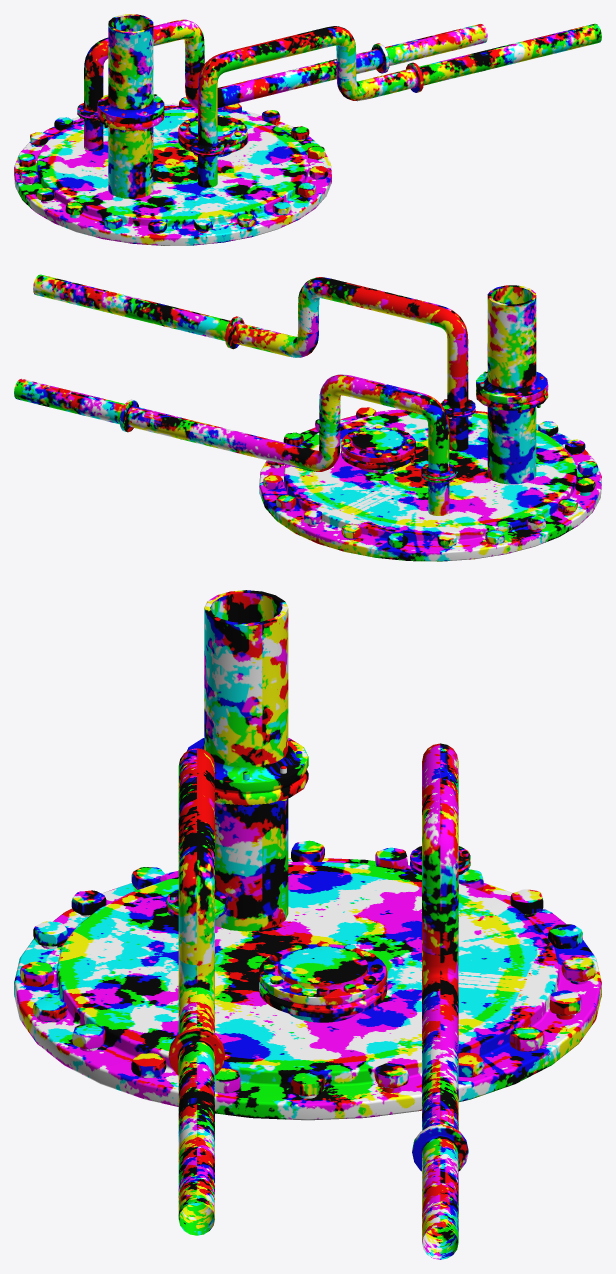
The model's file is sm_Container_Top_01_02.fbx.
The picture shows the model from 3 angles, top to bottom: view 1: azimuth 30°, elevation 25°; view 2: azimuth 150°, elevation 25°; view 3: azimuth 270°, elevation 25°; orthographic projection. The views are drawn at different scales.
Visible parts, largest first — view 1: sm_Container_Top_01_02_LOD0; view 2: sm_Container_Top_01_02_LOD0; view 3: sm_Container_Top_01_02_LOD0.
Boxes of the visible parts, bbox=[...] form: sm_Container_Top_01_02_LOD0: bbox=[14, 14, 601, 245]; sm_Container_Top_01_02_LOD0: bbox=[14, 274, 601, 561]; sm_Container_Top_01_02_LOD0: bbox=[14, 590, 601, 1259].
Size of the model in its own units: 289 by 150 by 94.76.
